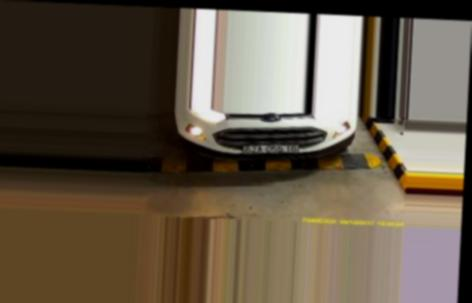License_Plate: (242, 139, 298, 156)
